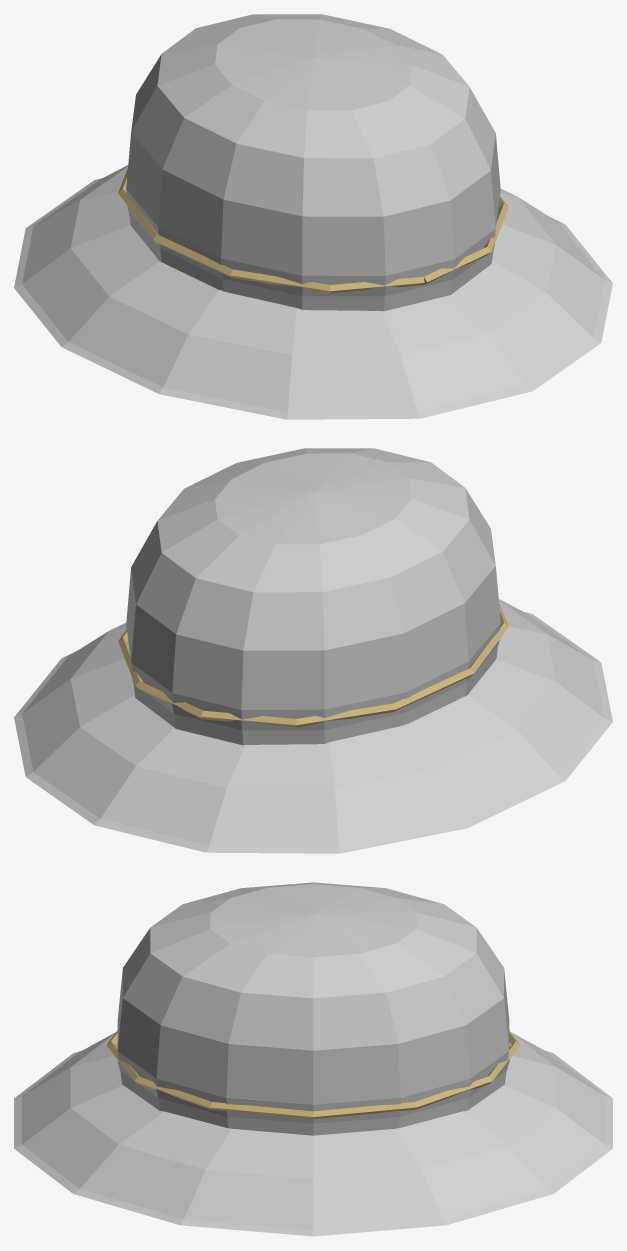
Rendered from acc_hat_bucket_v01.glb.
3 views of the same model, one above another, from view 1: azimuth 30°, elevation 25°; view 2: azimuth 150°, elevation 25°; view 3: azimuth 270°, elevation 25° (orthographic). The views are drawn at different scales.
Parts seen in each view (by area): view 1: acc_hat_bucket; view 2: acc_hat_bucket; view 3: acc_hat_bucket.
Boxes of the visible parts, x1,y1,x2,y2 form: acc_hat_bucket: (14, 14, 612, 419); acc_hat_bucket: (14, 448, 612, 853); acc_hat_bucket: (14, 882, 612, 1236).
Bounding box in the file's own units: 0.74 × 0.32 × 0.8297.
